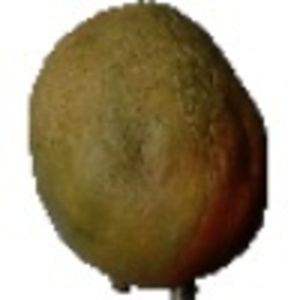mamão: (19, 4, 275, 284)
